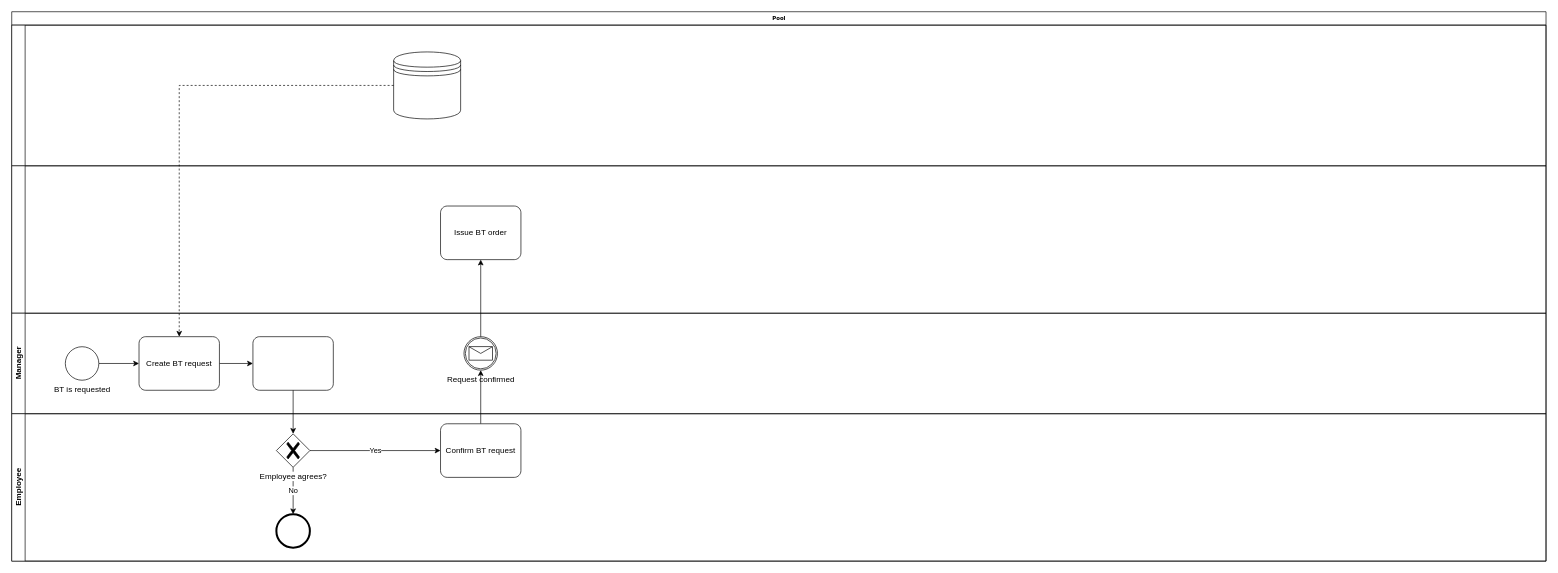
This 1558x573 diagram has some shape labels left out. The box of each missing label's shape, as (x1, y1, x2, y2) in pixels:
1C Database: (393, 51, 461, 119)
Database 1C: (11, 24, 1546, 166)
HR Department: (11, 165, 1546, 313)
Send BT request: (252, 336, 333, 390)
